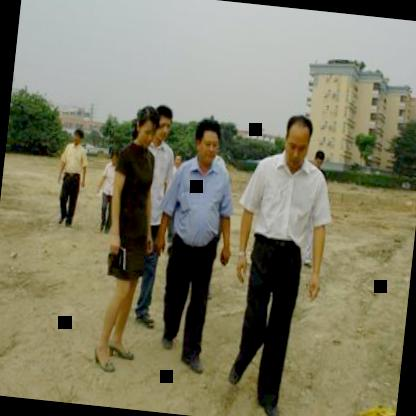head: (278, 110, 317, 168), (190, 117, 224, 170), (131, 102, 159, 149), (150, 100, 176, 145), (73, 125, 88, 146)
